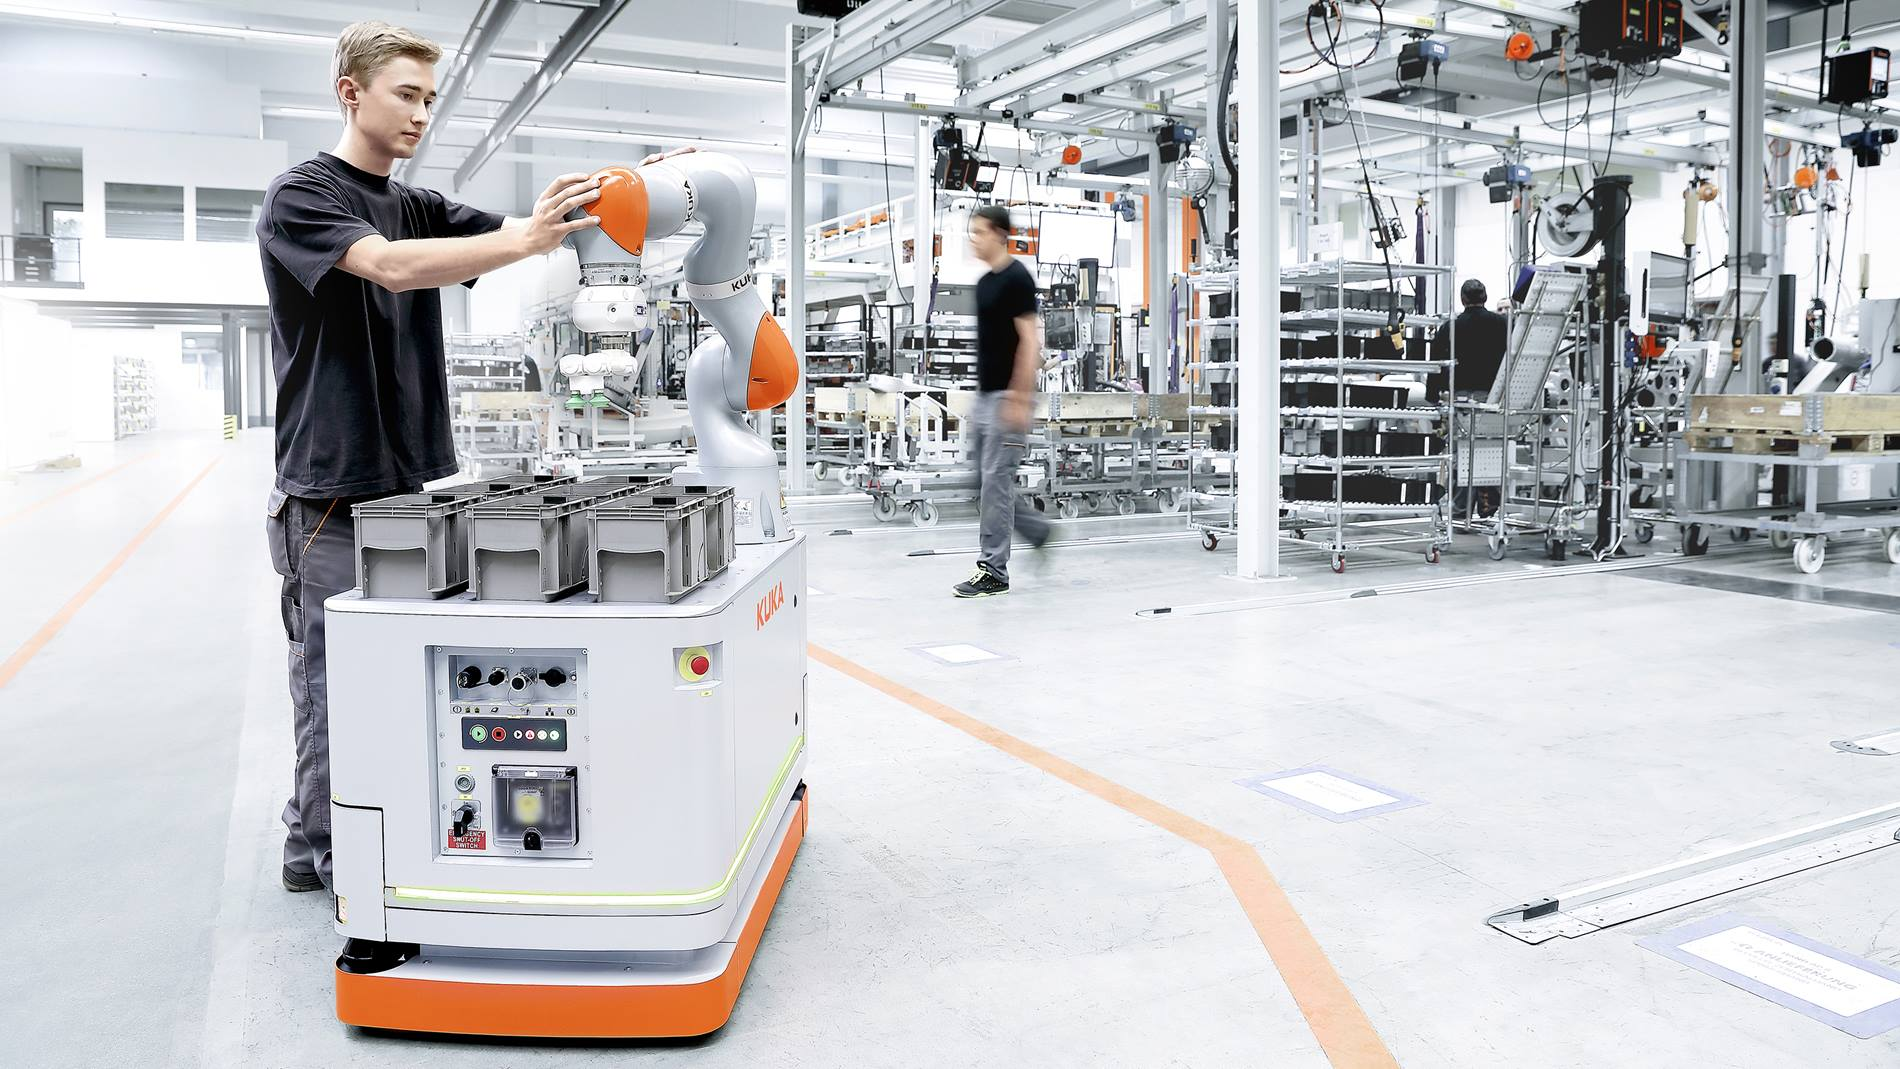person: (253, 20, 610, 905), (955, 205, 1071, 601)
robot: (555, 146, 799, 548)
